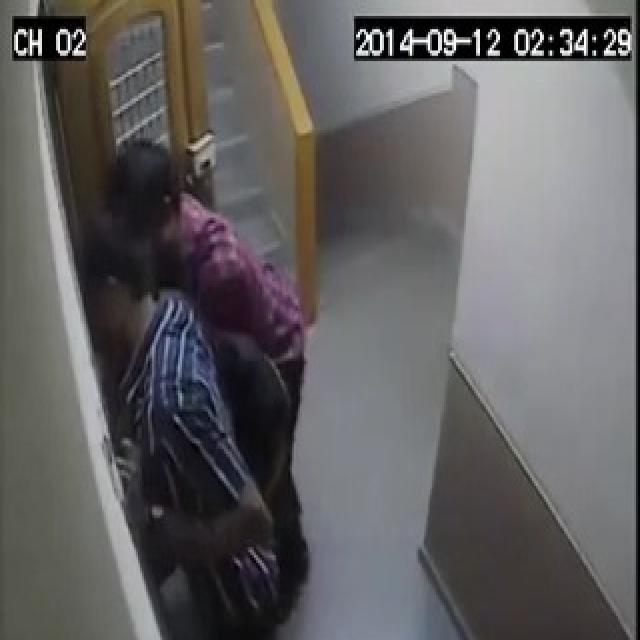burglary: (42, 234, 232, 538)
